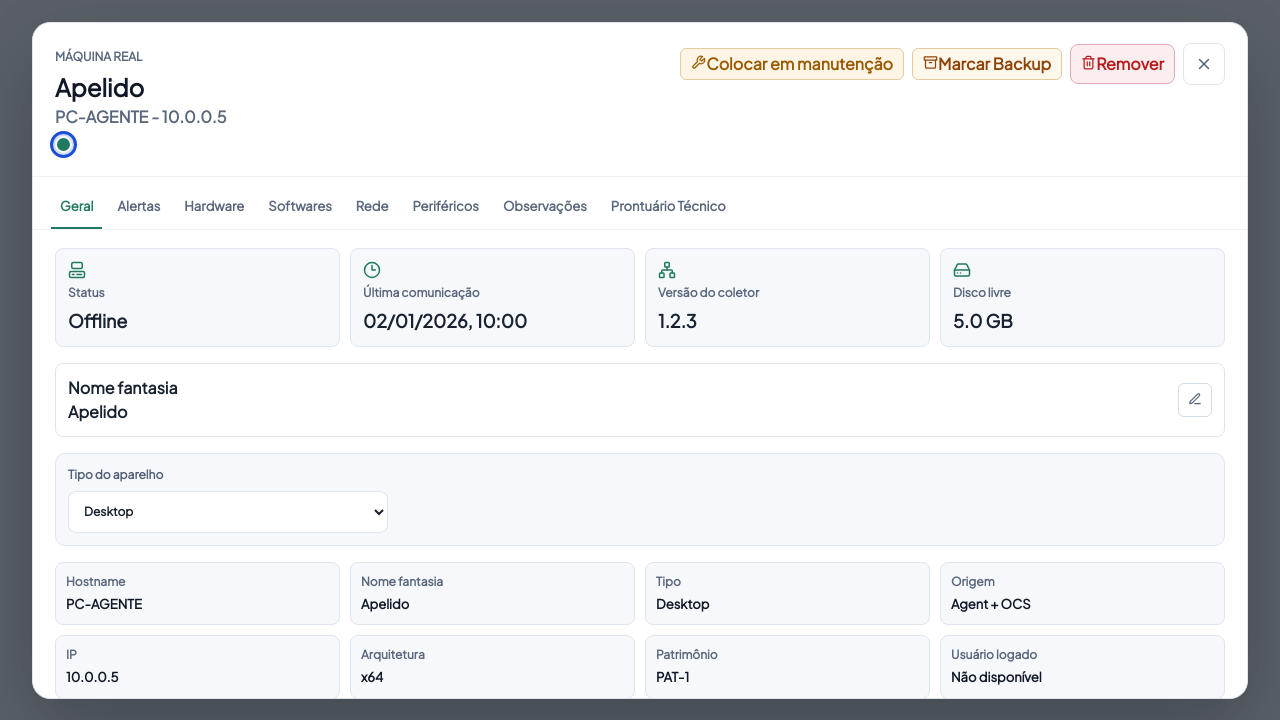
it: MachineDetailsModal — demais abas › mostra todas as seções de hardware
Click the button "Hardware" at (214, 208), box [175,187,253,228]
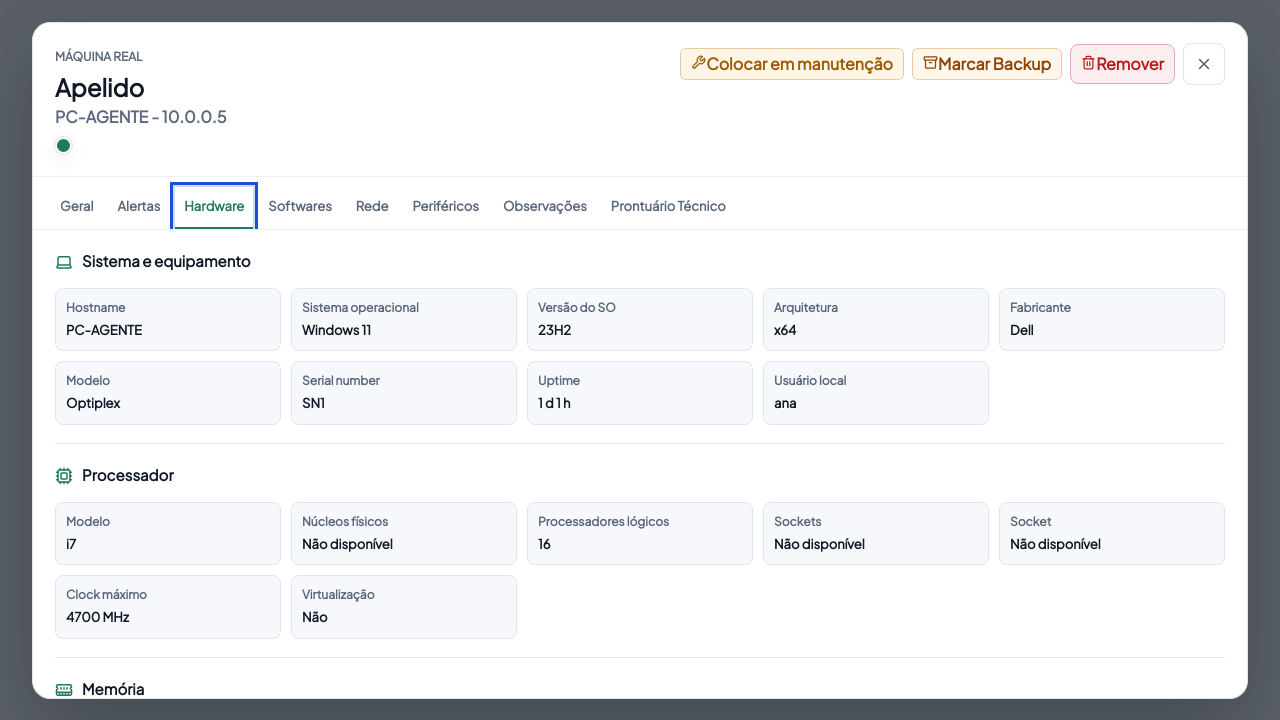
Check: the heading "Sistema e equipamento" is shown, box [82,250,251,273]
Check: the heading "Processador" is shown, box [82,464,174,487]
Check: the heading "Memória" is shown, box [82,678,144,698]
